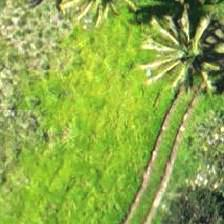Kelapa_Sawit: (139, 11, 223, 102)
